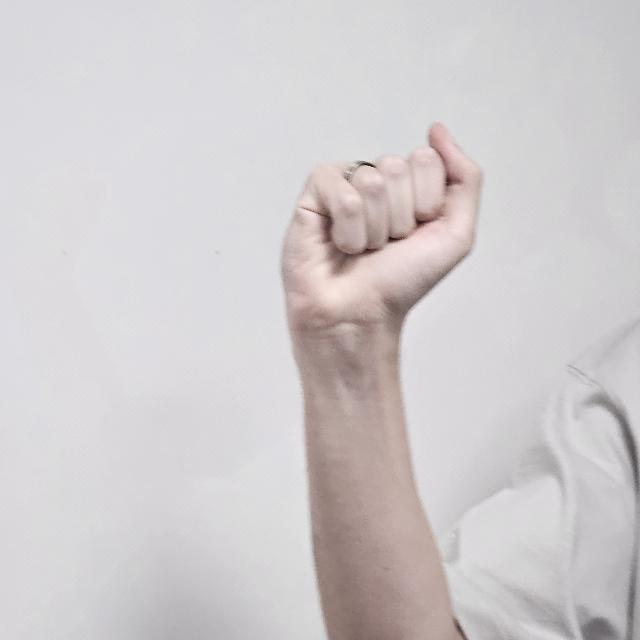Quadro: (278, 113, 484, 340)
